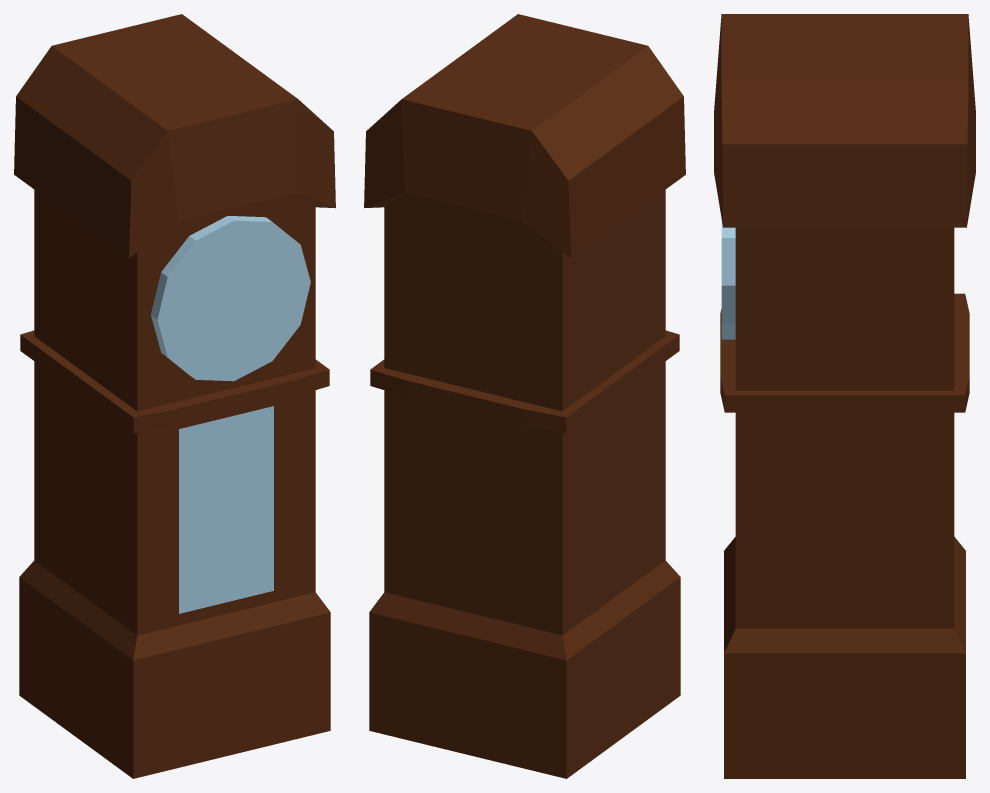
File: Reloj.fbx
3 renders of one model, left to right at view 1: azimuth 30°, elevation 25°; view 2: azimuth 150°, elevation 25°; view 3: azimuth 270°, elevation 25°, orthographic. The views are drawn at different scales.
Parts seen in each view (by area): view 1: Reloj; view 2: Reloj; view 3: Reloj.
Boxes of the visible parts, x1,y1,x2,y2 form: Reloj: (14,14,335,778); Reloj: (364,14,685,778); Reloj: (714,14,975,778).
Bounding box in the file's own units: 187 × 553 × 193.
